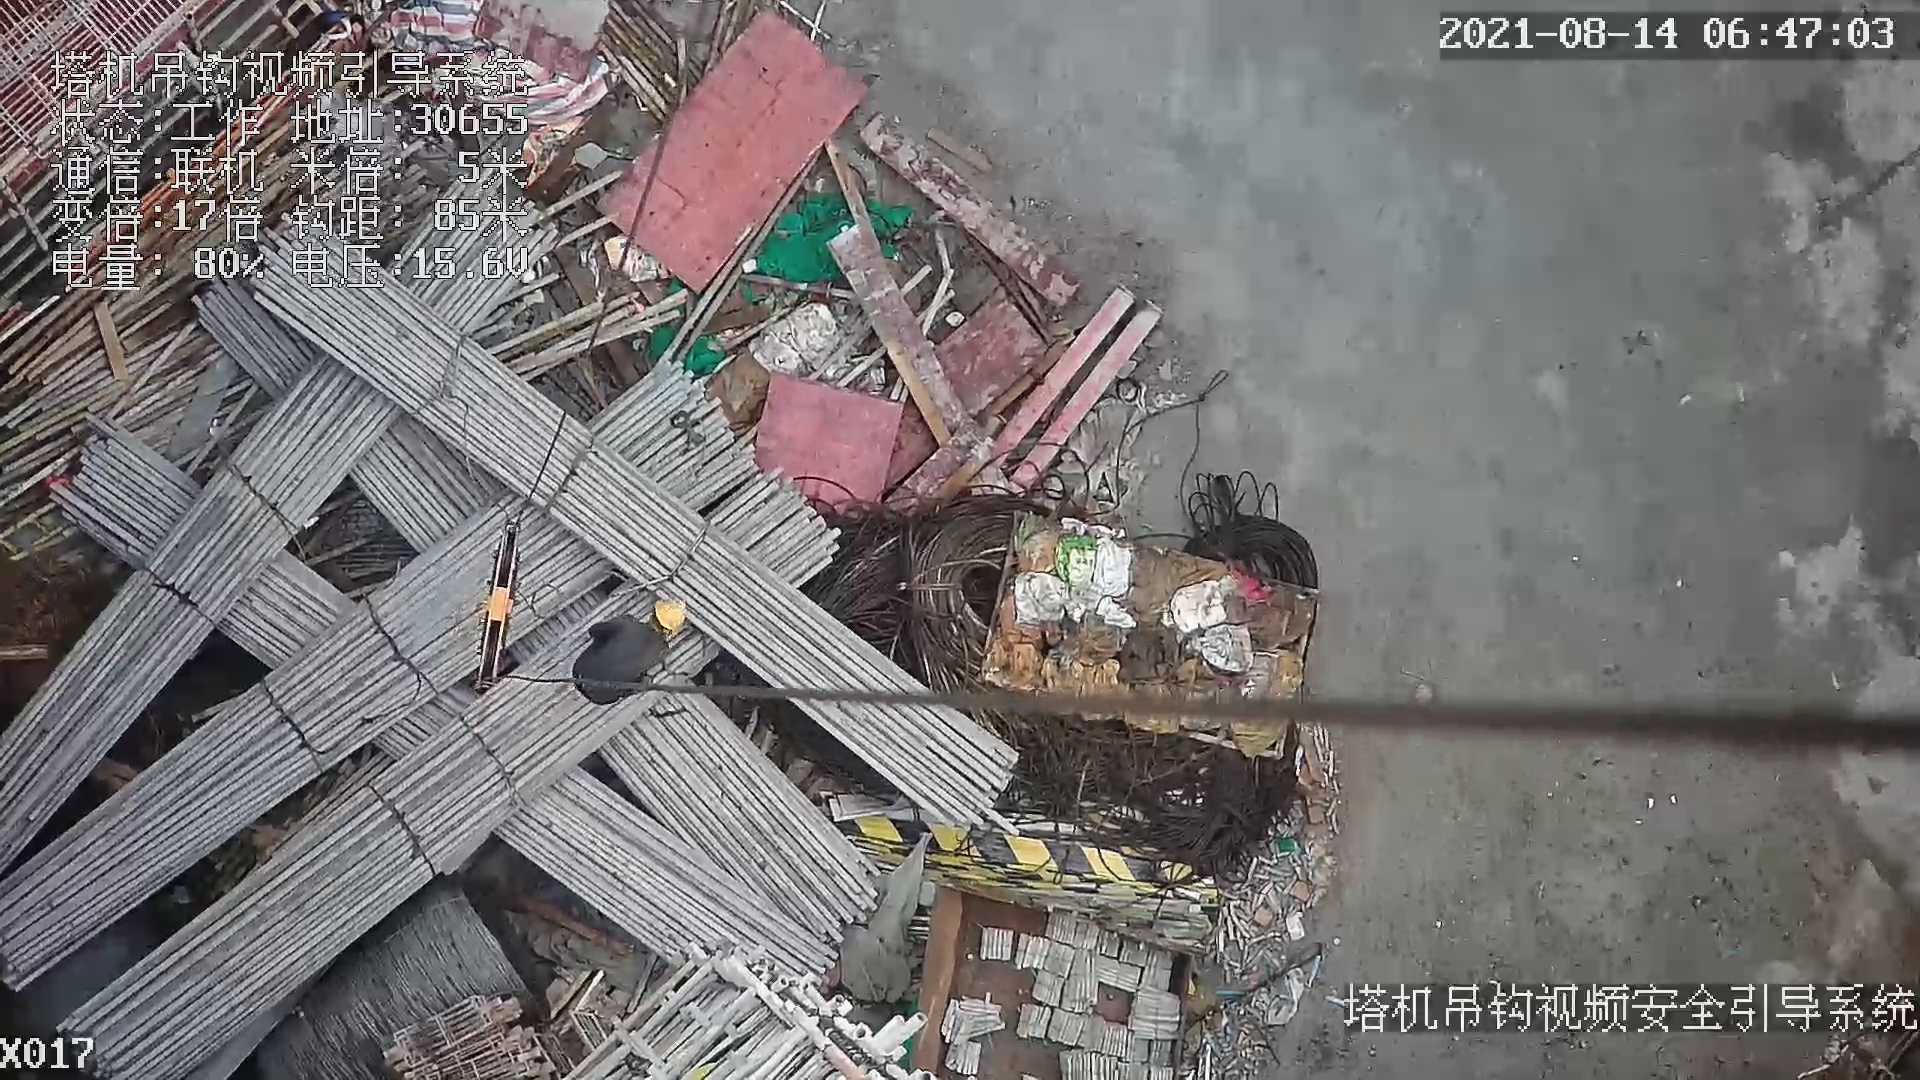board: (592, 6, 849, 297)
helmet: (648, 593, 692, 627)
hook: (474, 518, 524, 696)
person: (555, 597, 692, 715)
